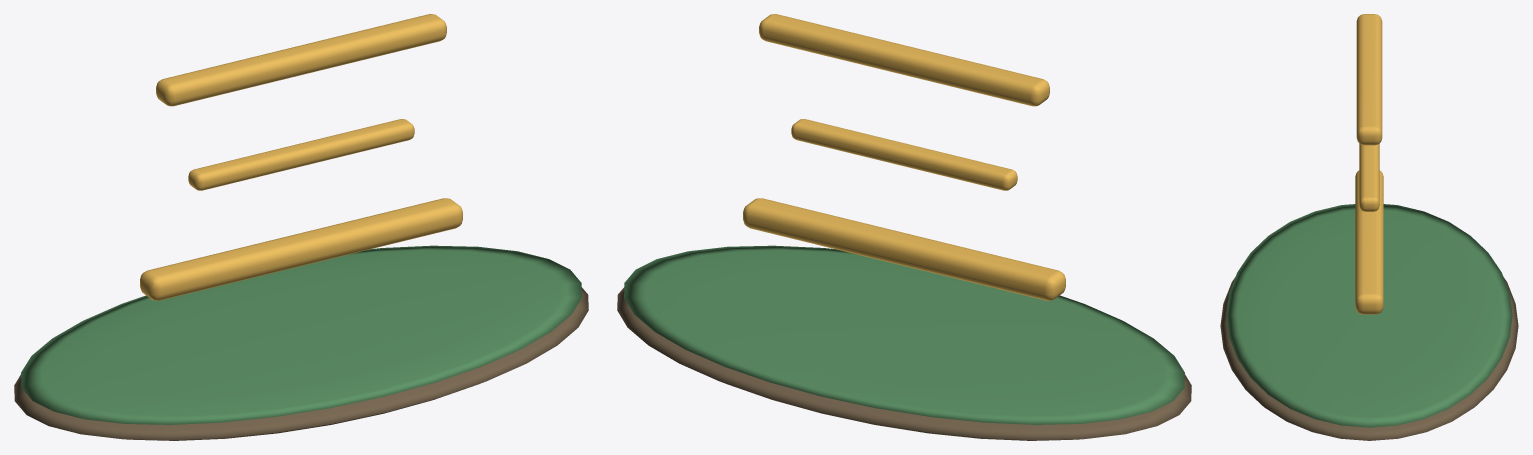
The model's file is three.glb.
3 views of the same model, side by side, from view 1: azimuth 30°, elevation 25°; view 2: azimuth 150°, elevation 25°; view 3: azimuth 270°, elevation 25° (orthographic). The views are drawn at different scales.
Parts seen in each view (by area): view 1: three_surface_01, three_surface_02, three_surface_00; view 2: three_surface_01, three_surface_02, three_surface_00; view 3: three_surface_01, three_surface_02, three_surface_00.
Boxes of the visible parts, x1,y1,x2,y2 form: three_surface_01: (21, 245, 581, 424); three_surface_02: (140, 14, 462, 300); three_surface_00: (14, 287, 588, 440); three_surface_01: (624, 245, 1184, 424); three_surface_02: (743, 14, 1065, 300); three_surface_00: (617, 287, 1191, 440); three_surface_01: (1226, 204, 1512, 427); three_surface_02: (1355, 14, 1383, 314); three_surface_00: (1220, 278, 1518, 440).
Size of the model in its own units: 4.56 by 2.5 by 2.5.
